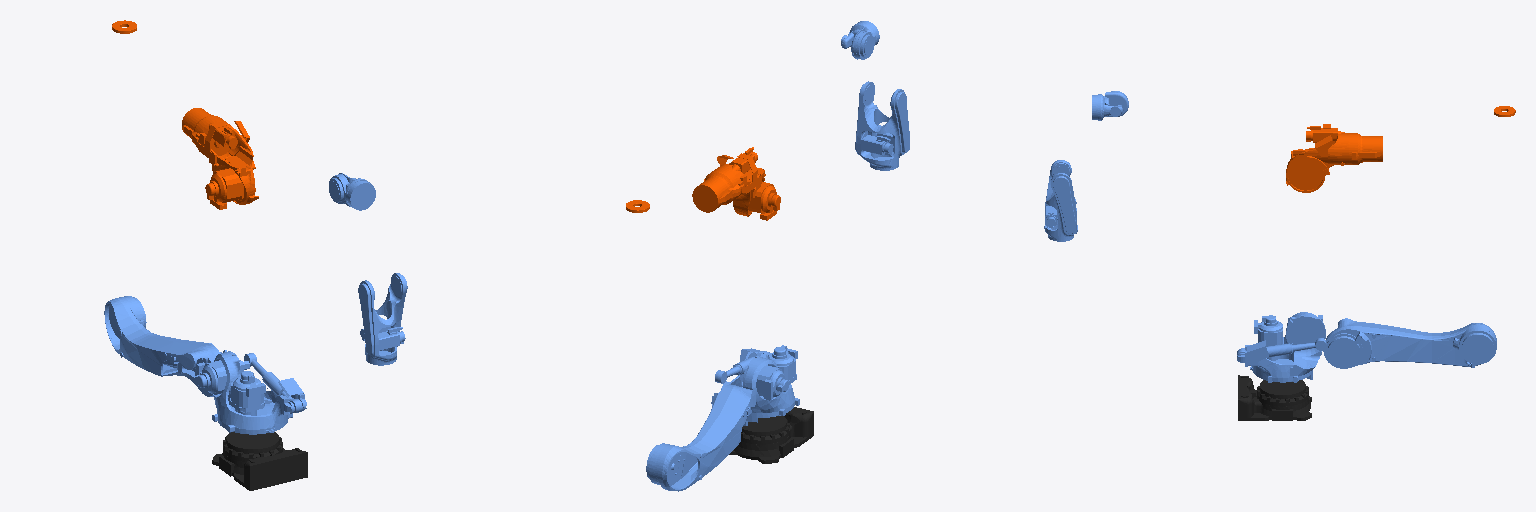
robot.urdf — kawasaki:
<?xml version="1.0" ?>

<robot name="kawasaki" xmlns:xacro="http://www.ros.org/wiki/xacro">
  <!-- Import Rviz colors -->
  <material name="Grey">
	<color rgba="0.2 0.2 0.2 1.0"/>
  </material>
  <material name="Orange">
	<color rgba="1.0 0.423529411765 0.0392156862745 1.0"/>
  </material>
  <material name="Blue">
  <color rgba="0.5 0.7 1.0 1.0"/>      
</material>

  <!--Import the lbr iiwa macro -->
  <!--Import Transmissions -->
  <!--Include Utilities -->
  <!--The following macros are adapted from the LWR 4 definitions of the RCPRG - https://github.com/RCPRG-ros-pkg/lwr_robot -->
  <!--Little helper macros to define the inertia matrix needed for links.-->
  <!--Cuboid-->
  <!--Cylinder: length is along the y-axis! -->
  <!--lbr-->
  <link name="base">
	<origin rpy="0 0 0" xyz="2 0 0"/>
	<visual>
	  <origin rpy="0 0 0" xyz="0 0 0"/>
	  <geometry>
		<mesh filename="meshes/base.dae"/>
	  </geometry>
	  <material name="Grey"/>
	</visual>
	<collision>
	  <geometry>
		<mesh filename="meshes/base.dae"/>
	  </geometry>
	</collision>
  </link>
  <!-- joint between base and link_1 -->
  <joint name="joint_1" type="revolute">
	<parent link="base"/>
	<child link="link_1"/>
	<origin rpy="0 0 0" xyz="0 0 0.1575"/>
	<axis xyz="0 0 1"/>
	<limit effort="300" lower="-2.96705972839" upper="2.96705972839" velocity="10"/>
	<dynamics damping="0.5"/>
  </joint>
  <link name="link_1">
	<visual>
	  <origin rpy="0 0 0" xyz="0 0 0"/>
	  <geometry>
		<mesh filename="meshes/link_1.dae"/>
	  </geometry>
	  <material name="Blue"/>
	</visual>
	<collision>
	  <origin rpy="0 0 0" xyz="0 0 0"/>
	  <geometry>
		<mesh filename="meshes/link_1.dae"/>
	  </geometry>
	</collision>
  </link>
  <!-- joint between link_1 and link_2 -->
  <joint name="joint_2" type="revolute">
	<parent link="link_1"/>
	<child link="link_2"/>
	<origin rpy="1.57079632679   0 3.14159265359" xyz="0 0 0.2025"/>
	<axis xyz="0 0 1"/>
	<limit effort="300" lower="-2.09439510239" upper="2.09439510239" velocity="10"/>
	<dynamics damping="0.5"/>
  </joint>
  <link name="link_2">
	<visual>
	  <origin rpy="0 0 0" xyz="0 0 0"/>
	  <geometry>
		<mesh filename="meshes/link_2.dae"/>
	  </geometry>
	  <material name="Blue"/>
	</visual>
	<collision>
	  <origin rpy="0 0 0" xyz="0 0 0"/>
	  <geometry>
		<mesh filename="meshes/link_2.dae"/>
	  </geometry>
	</collision>
  </link>
  <!-- joint between link_2 and link_3 -->
  <joint name="joint_3" type="revolute">
	<parent link="link_2"/>
	<child link="link_3"/>
	<origin rpy="1.57079632679 0 3.14159265359" xyz="0 0.2045 0"/>
	<axis xyz="0 0 1"/>
	<limit effort="300" lower="-2.96705972839" upper="2.96705972839" velocity="10"/>
	<dynamics damping="0.5"/>
  </joint>
  <link name="link_3">
	<visual>
	  <origin rpy="0 0 0" xyz="0 0 0"/>
	  <geometry>
		<mesh filename="meshes/link_3.dae"/>
	  </geometry>
	  <material name="Orange"/>
	</visual>
	<collision>
	  <origin rpy="0 0 0" xyz="0 0 0"/>
	  <geometry>
		<mesh filename="meshes/link_3.dae"/>
	  </geometry>
	</collision>
  </link>
  <!-- joint between link_3 and link_4 -->
  <joint name="joint_4" type="revolute">
	<parent link="link_3"/>
	<child link="link_4"/>
	<origin rpy="1.57079632679 0 0" xyz="0 0 0.2155"/>
	<axis xyz="0 0 1"/>
	<limit effort="300" lower="-2.09439510239" upper="2.09439510239" velocity="10"/>
	<dynamics damping="0.5"/>
  </joint>
  <link name="link_4">
	<visual>
	  <origin rpy="0 0 0" xyz="0 0 0"/>
	  <geometry>
		<mesh filename="meshes/link_4.dae"/>
	  </geometry>
	  <material name="Blue"/>
	</visual>
	<collision>
	  <origin rpy="0 0 0" xyz="0 0 0"/>
	  <geometry>
		<mesh filename="meshes/link_4.dae"/>
	  </geometry>
	</collision>
  </link>
  <!-- joint between link_4 and link_5 -->
  <joint name="joint_5" type="revolute">
	<parent link="link_4"/>
	<child link="link_5"/>
	<origin rpy="-1.57079632679 3.14159265359 0" xyz="0 0.1845 0"/>
	<axis xyz="0 0 1"/>
	<limit effort="300" lower="-2.96705972839" upper="2.96705972839" velocity="10"/>
	<dynamics damping="0.5"/>
  </joint>
  <link name="link_5">
	<visual>
	  <origin rpy="0 0 0" xyz="0 0 0"/>
	  <geometry>
		<mesh filename="meshes/link_5.dae"/>
	  </geometry>
	  <material name="Blue"/>
	</visual>
	<collision>
	  <origin rpy="0 0 0" xyz="0 0 0"/>
	  <geometry>
		<mesh filename="meshes/link_5.dae"/>
	  </geometry>
	</collision>
  </link>
  <!-- joint between link_5 and link_6 -->
  <joint name="joint_6" type="revolute">
	<parent link="link_5"/>
	<child link="link_6"/>
	<origin rpy="1.57079632679 0 0" xyz="0 0 0.2155"/>
	<axis xyz="0 0 1"/>
	<limit effort="300" lower="-2.09439510239" upper="2.09439510239" velocity="10"/>
	<dynamics damping="0.5"/>
  </joint>
  <link name="link_6">
	<visual>
	  <origin rpy="0 0 0" xyz="0 0 0"/>
	  <geometry>
		<mesh filename="meshes/link_6.dae"/>
	  </geometry>
	  <material name="Orange"/>
	</visual>
	<collision>
	  <origin rpy="0 0 0" xyz="0 0 0"/>
	  <geometry>
		<mesh filename="meshes/link_6.dae"/>
	  </geometry>
	</collision>
  </link>
	
</robot>

--- Facts derived from the render (not from the file) ---
The picture shows the robot from 3 angles, left to right: view 1: azimuth 30°, elevation 25°; view 2: azimuth 150°, elevation 25°; view 3: azimuth 270°, elevation 25°; orthographic projection.
Model kawasaki with 7 links and 6 joints (6 revolute), rooted at base, posed all joints at 0.
Links seen in each view (by area): view 1: link_1, link_2, link_3, base, link_4, link_5; view 2: link_2, link_3, link_1, link_4, base, link_5; view 3: link_2, link_1, link_3, base, link_4, link_5.
Link boxes in pixels (<box>): link_1: <box>195,350,306,434</box>; link_2: <box>104,296,221,396</box>; link_3: <box>182,108,258,209</box>; base: <box>212,432,307,490</box>; link_4: <box>358,273,407,365</box>; link_5: <box>329,173,375,210</box>; link_2: <box>646,384,755,491</box>; link_3: <box>692,147,780,220</box>; link_1: <box>715,345,799,425</box>; link_4: <box>855,81,909,170</box>; base: <box>729,407,813,463</box>; link_5: <box>841,21,879,59</box>; link_2: <box>1323,318,1496,368</box>; link_1: <box>1237,312,1326,382</box>; link_3: <box>1286,124,1382,192</box>; base: <box>1238,375,1311,420</box>; link_4: <box>1044,160,1077,241</box>; link_5: <box>1092,91,1128,120</box>.
Bounding box of the posed robot: 0.62 × 4.08 × 3 m (x, y, z).
Meshes: 7 distinct files referenced, 7 mesh visuals loaded (7 Collada DAE).